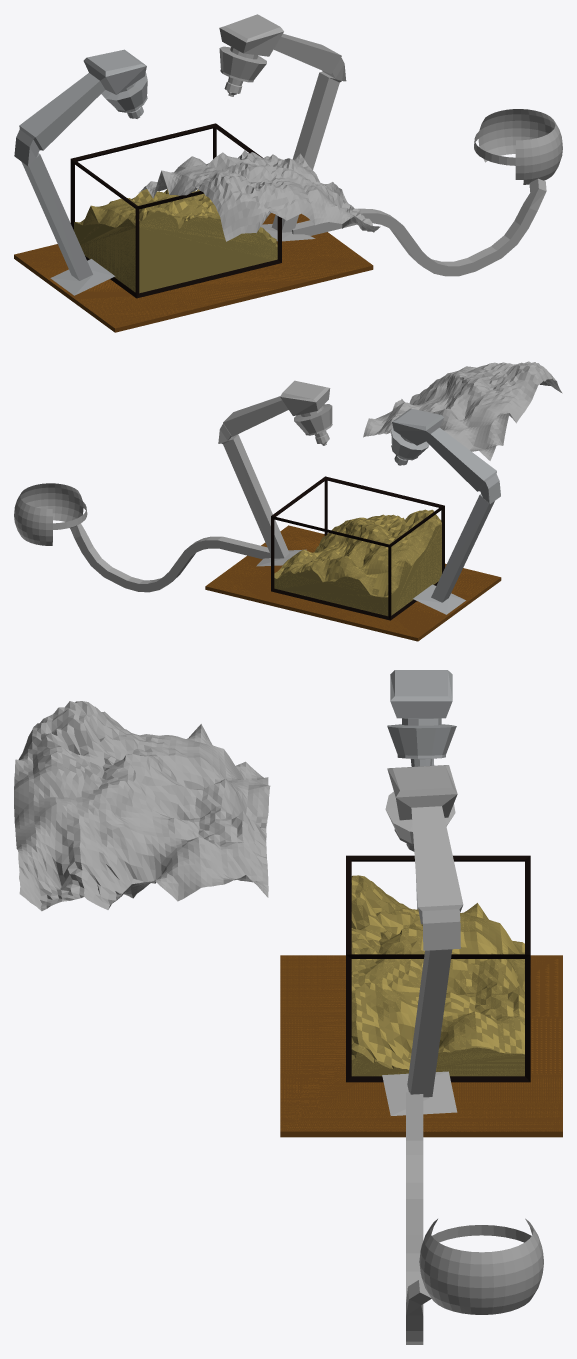
File: micro-realité_ivan_final.obj
3 views of the same model, one above another, from view 1: azimuth 30°, elevation 25°; view 2: azimuth 150°, elevation 25°; view 3: azimuth 270°, elevation 25° (orthographic). The views are drawn at different scales.
Parts seen in each view (by area): view 1: Cube.005_Cube.003, Cube.003_Cube.004, Plane.002, Cube.004_Cube.001, Cube.002_Cube.005, Cube, Cube.001_Cube.002; view 2: Cube.005_Cube.003, Cube.003_Cube.004, Plane.002, Cube.004_Cube.001, Cube.002_Cube.005, Cube.001_Cube.002, Cube; view 3: Plane.002, Cube.005_Cube.003, Cube.003_Cube.004, Cube.002_Cube.005, Cube, Cube.004_Cube.001, Cube.001_Cube.002.
Boxes of the visible parts, x1,y1,x2,y2 form: Cube.005_Cube.003: (14, 109, 562, 332); Cube.003_Cube.004: (74, 189, 277, 293); Plane.002: (139, 150, 380, 241); Cube.004_Cube.001: (14, 49, 147, 295); Cube.002_Cube.005: (219, 14, 346, 241); Cube: (24, 213, 371, 327); Cube.001_Cube.002: (70, 123, 281, 298); Cube.005_Cube.003: (14, 483, 501, 641); Cube.003_Cube.004: (274, 509, 441, 616); Plane.002: (363, 361, 562, 460); Cube.004_Cube.001: (391, 408, 500, 614); Cube.002_Cube.005: (218, 380, 332, 566); Cube.001_Cube.002: (271, 476, 444, 620); Cube: (206, 527, 499, 635); Plane.002: (14, 701, 270, 911); Cube.005_Cube.003: (280, 955, 562, 1344); Cube.003_Cube.004: (351, 875, 524, 1076); Cube.002_Cube.005: (382, 765, 463, 1115); Cube: (280, 955, 561, 1131); Cube.004_Cube.001: (387, 670, 456, 909); Cube.001_Cube.002: (346, 855, 530, 1082).
Bounding box in the file's own units: 6.37 × 3.22 × 3.88.
